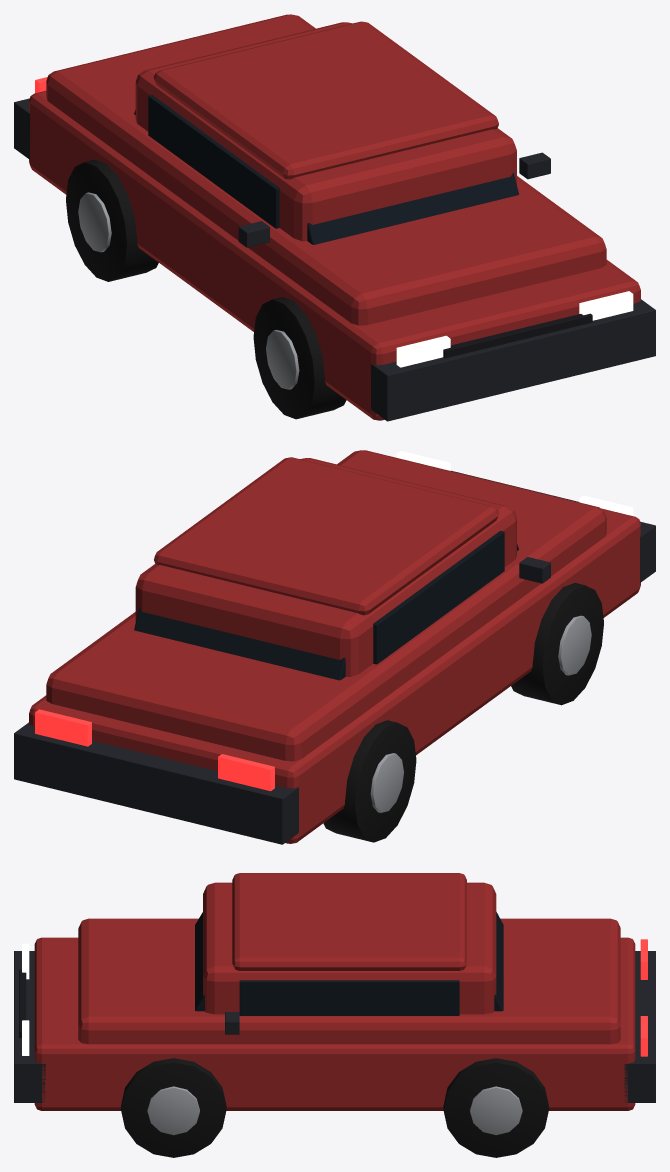
Rendered from car.glb.
3 renders of one model, top to bottom at view 1: azimuth 30°, elevation 25°; view 2: azimuth 150°, elevation 25°; view 3: azimuth 270°, elevation 25°, orthographic. The views are drawn at different scales.
Visible parts, largest first — view 1: Cube.001, Cube.003, Cube, Cube.002, Cube.010, Cube.007, Cone.002, Cone, Cube.004, Cube.012, Cone.001, Cone.003 (+5 smaller); view 2: Cube.001, Cube.003, Cube, Cube.002, Cube.011, Cube.007, Cone, Cone.002, Cube.005, Cone.003, Cone.001, Cube.015 (+3 smaller); view 3: Cube.001, Cube, Cube.003, Cube.002, Cube.006, Cone.004, Cone.006, Cube.011, Cube.010, Cone.005, Cone.007, Cube.005 (+2 smaller).
Boxes of the visible parts, x1,y1,x2,y2 form: Cube.001: (46, 14, 606, 325); Cube.003: (154, 21, 498, 179); Cube: (29, 91, 640, 420); Cube.002: (135, 22, 516, 241); Cube.010: (371, 299, 655, 421); Cube.007: (148, 95, 279, 228); Cone.002: (253, 297, 346, 419); Cone: (66, 159, 158, 281); Cube.004: (307, 173, 518, 244); Cube.012: (443, 313, 592, 358); Cone.001: (78, 192, 111, 252); Cone.003: (266, 329, 299, 389); Cube.001: (46, 450, 606, 761); Cube.003: (154, 457, 498, 615); Cube: (29, 508, 640, 843); Cube.002: (135, 458, 516, 676); Cube.011: (14, 722, 298, 844); Cube.007: (373, 530, 504, 664); Cone: (323, 720, 416, 842); Cone.002: (511, 583, 603, 705); Cube.005: (134, 607, 345, 680); Cone.003: (558, 615, 591, 675); Cone.001: (370, 753, 403, 812); Cube.015: (35, 709, 91, 746); Cube.001: (78, 918, 620, 1044); Cube: (34, 937, 635, 1110); Cube.003: (232, 873, 466, 970); Cube.002: (203, 882, 496, 1014); Cube.006: (239, 980, 459, 1015); Cone.004: (443, 1058, 548, 1157); Cone.006: (121, 1058, 226, 1157); Cube.011: (624, 951, 655, 1102); Cube.010: (14, 951, 45, 1102); Cone.005: (470, 1086, 522, 1135); Cone.007: (147, 1086, 199, 1135); Cube.005: (494, 912, 503, 1011).
Bounding box in the file's own units: 2.06 × 1.37 × 4.38.
